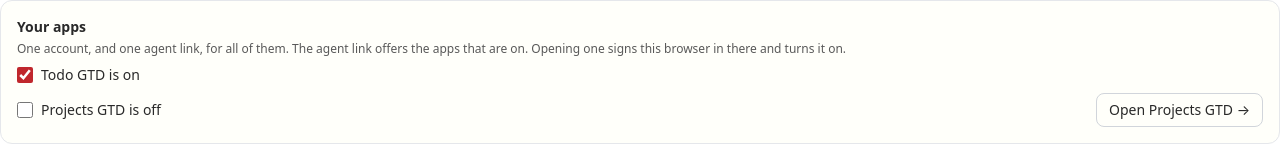
Test: Apps › offers to open only the other apps, and stays busy while the page goes there
What coordinates should you click on to do the following:
click the button "Open Projects GTD →"
I would click on:
 (1180, 110)
Its box is [1096,93,1263,127].
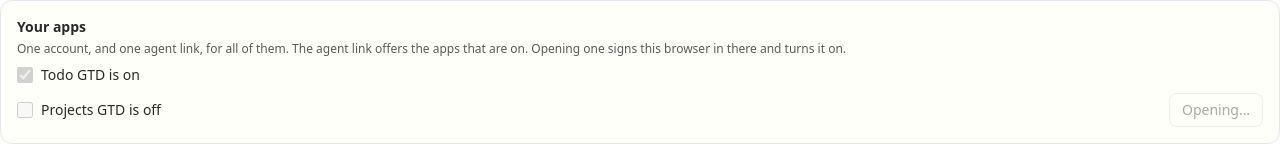
Now the button "Opening…" is disabled, box [1169,93,1263,127]
